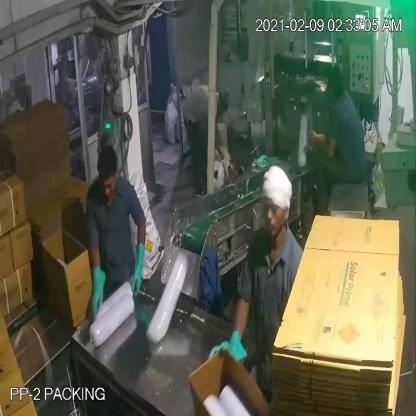glove: (204, 327, 254, 378), (78, 262, 112, 321), (124, 233, 152, 299)
no_glove: (300, 124, 342, 162)
